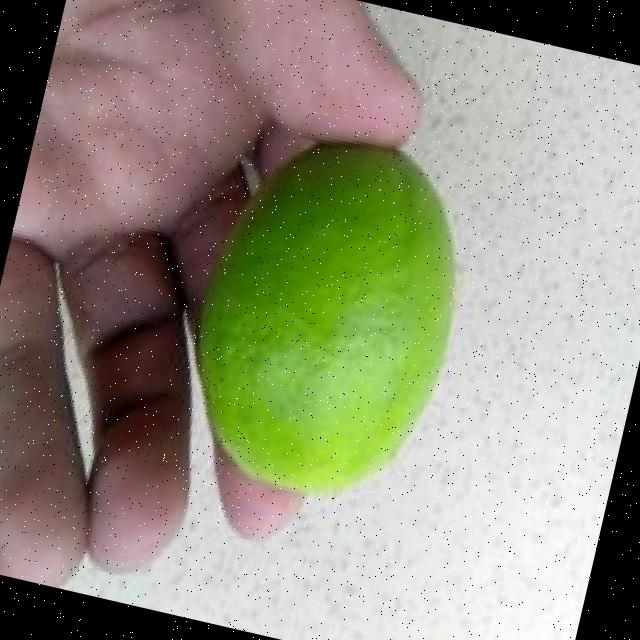lemon: (198, 144, 452, 490)
